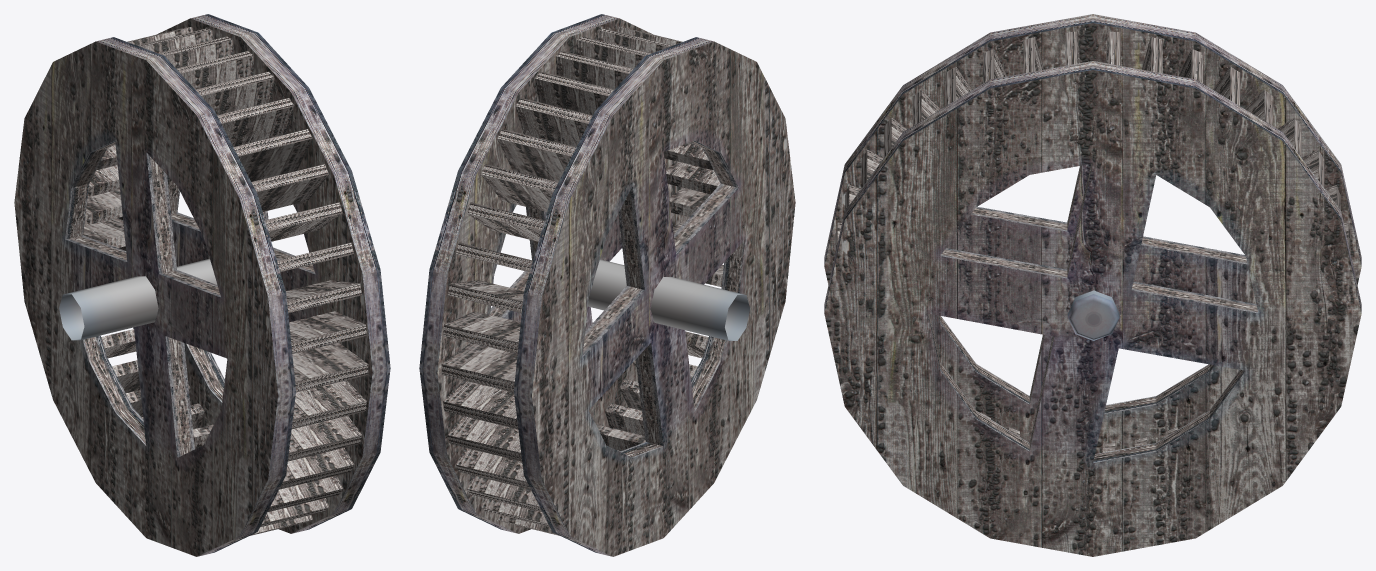
Rendered from water-wheel.fbx.
3 renders of one model, left to right at view 1: azimuth 30°, elevation 25°; view 2: azimuth 150°, elevation 25°; view 3: azimuth 270°, elevation 25°, orthographic.
Parts seen in each view (by area): view 1: Wheel, WheelSpokes, WheelCap, WheelAxle; view 2: Wheel, WheelSpokes, WheelCap, WheelAxle; view 3: WheelCap, Wheel, WheelSpokes, WheelAxle.
Boxes of the visible parts, x1,y1,x2,y2 form: Wheel: (14,37,295,556); WheelSpokes: (83,27,368,535); WheelCap: (118,14,390,533); WheelAxle: (59,258,217,340); Wheel: (514,37,795,556); WheelSpokes: (441,27,723,535); WheelCap: (419,14,689,533); WheelAxle: (588,259,750,340); WheelCap: (824,61,1361,556); Wheel: (824,14,1361,453); WheelSpokes: (833,31,1352,452); WheelAxle: (1067,290,1119,340).
Size of the model in its own units: 5.06 by 11.67 by 11.67.
